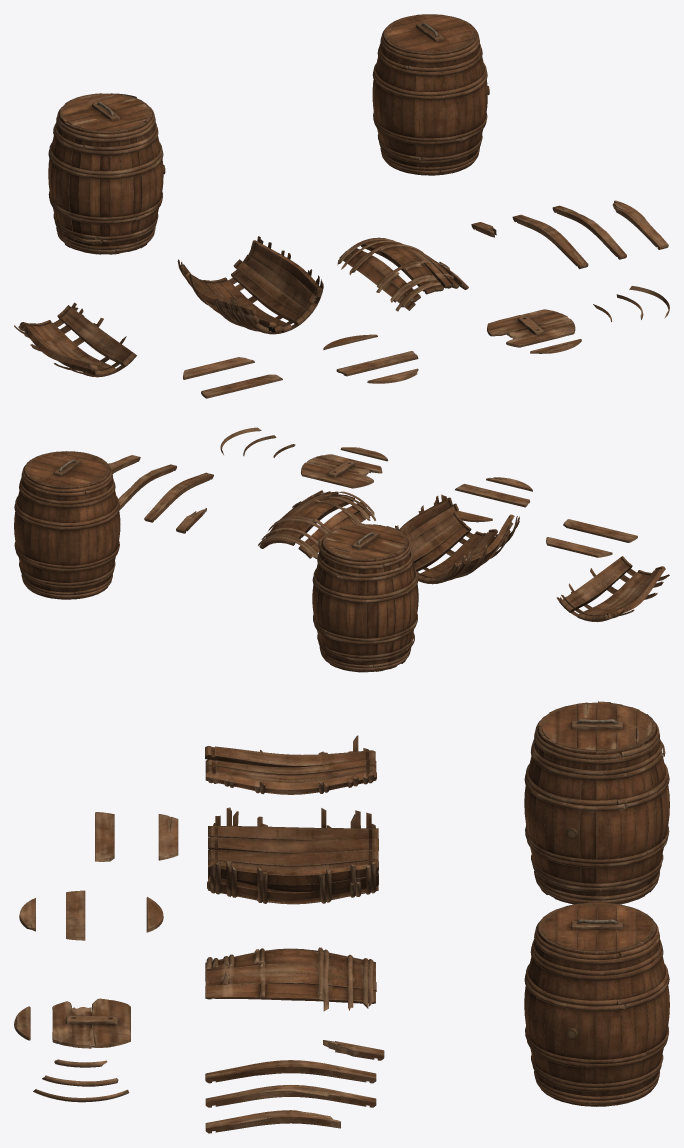
3 views of the same model, one above another, from view 1: azimuth 30°, elevation 25°; view 2: azimuth 150°, elevation 25°; view 3: azimuth 270°, elevation 25° (orthographic). The views are drawn at different scales.
Visible parts, largest first — view 1: wooden_barrels_01_barrel02, wooden_barrels_01_barrel01, wooden_barrels_01_piece01, wooden_barrels_01_piece03, wooden_barrels_01_piece02, wooden_barrels_01_piece08, wooden_barrels_01_piece04, wooden_barrels_01_piece05, wooden_barrels_01_piece06, wooden_barrels_01_piece11, wooden_barrels_01_piece14, wooden_barrels_01_piece13; view 2: wooden_barrels_01_barrel02, wooden_barrels_01_barrel01, wooden_barrels_01_piece01, wooden_barrels_01_piece03, wooden_barrels_01_piece02, wooden_barrels_01_piece08, wooden_barrels_01_piece04, wooden_barrels_01_piece14, wooden_barrels_01_piece11, wooden_barrels_01_piece05, wooden_barrels_01_piece13; view 3: wooden_barrels_01_barrel01, wooden_barrels_01_barrel02, wooden_barrels_01_piece01, wooden_barrels_01_piece03, wooden_barrels_01_piece02, wooden_barrels_01_piece08, wooden_barrels_01_piece04, wooden_barrels_01_piece05, wooden_barrels_01_piece06, wooden_barrels_01_piece11, wooden_barrels_01_piece14, wooden_barrels_01_piece13 (+1 smaller).
Part boxes in pixels (box(x1,y1,x2,y2)): wooden_barrels_01_barrel02: box(48, 93, 165, 254); wooden_barrels_01_barrel01: box(372, 14, 489, 175); wooden_barrels_01_piece01: box(177, 236, 323, 334); wooden_barrels_01_piece03: box(337, 237, 468, 311); wooden_barrels_01_piece02: box(14, 302, 136, 377); wooden_barrels_01_piece08: box(487, 309, 575, 347); wooden_barrels_01_piece04: box(512, 214, 588, 268); wooden_barrels_01_piece05: box(552, 205, 626, 259); wooden_barrels_01_piece06: box(612, 200, 668, 249); wooden_barrels_01_piece11: box(336, 351, 418, 376); wooden_barrels_01_piece14: box(201, 374, 282, 398); wooden_barrels_01_piece13: box(183, 357, 254, 379); wooden_barrels_01_barrel02: box(312, 523, 418, 672); wooden_barrels_01_barrel01: box(14, 451, 120, 599); wooden_barrels_01_piece01: box(395, 494, 519, 584); wooden_barrels_01_piece03: box(258, 490, 375, 558); wooden_barrels_01_piece02: box(556, 556, 669, 622); wooden_barrels_01_piece08: box(301, 454, 382, 488); wooden_barrels_01_piece04: box(144, 472, 213, 522); wooden_barrels_01_piece14: box(563, 519, 637, 542); wooden_barrels_01_piece11: box(455, 484, 529, 507); wooden_barrels_01_piece05: box(118, 464, 176, 510); wooden_barrels_01_piece13: box(546, 537, 612, 557); wooden_barrels_01_barrel01: box(524, 902, 669, 1106); wooden_barrels_01_barrel02: box(524, 701, 669, 904); wooden_barrels_01_piece01: box(207, 807, 378, 904); wooden_barrels_01_piece03: box(205, 947, 376, 1011); wooden_barrels_01_piece02: box(205, 735, 376, 794); wooden_barrels_01_piece08: box(52, 998, 130, 1048); wooden_barrels_01_piece04: box(205, 1060, 376, 1083); wooden_barrels_01_piece05: box(205, 1085, 376, 1107); wooden_barrels_01_piece06: box(205, 1110, 340, 1133); wooden_barrels_01_piece11: box(66, 890, 85, 940); wooden_barrels_01_piece14: box(95, 812, 114, 861); wooden_barrels_01_piece13: box(158, 814, 178, 860).
Size of the model in its own units: 4.44 by 0.9567 by 3.34.
Materials: 3 (3 with a texture image).
